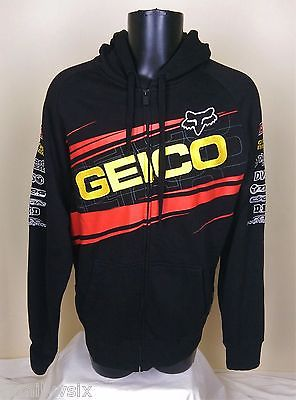geico: (70, 130, 233, 212)
